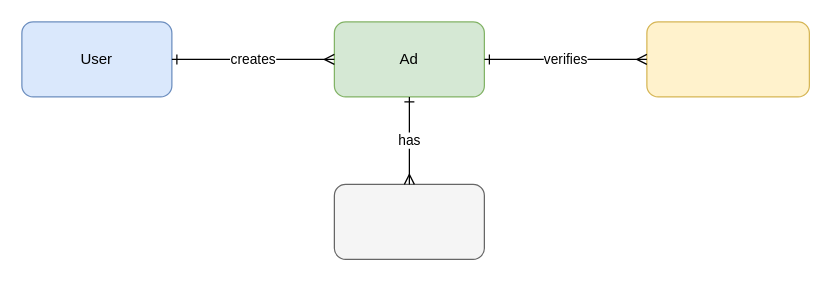
The diagram is 831 pixels wide and 281 high, and some of its shapes have lost their labels. Here are the shapes that lost their labels. From the top down, the box of each, then its label:
(646, 21, 809, 97): Owner-check
(333, 183, 484, 259): Photo
